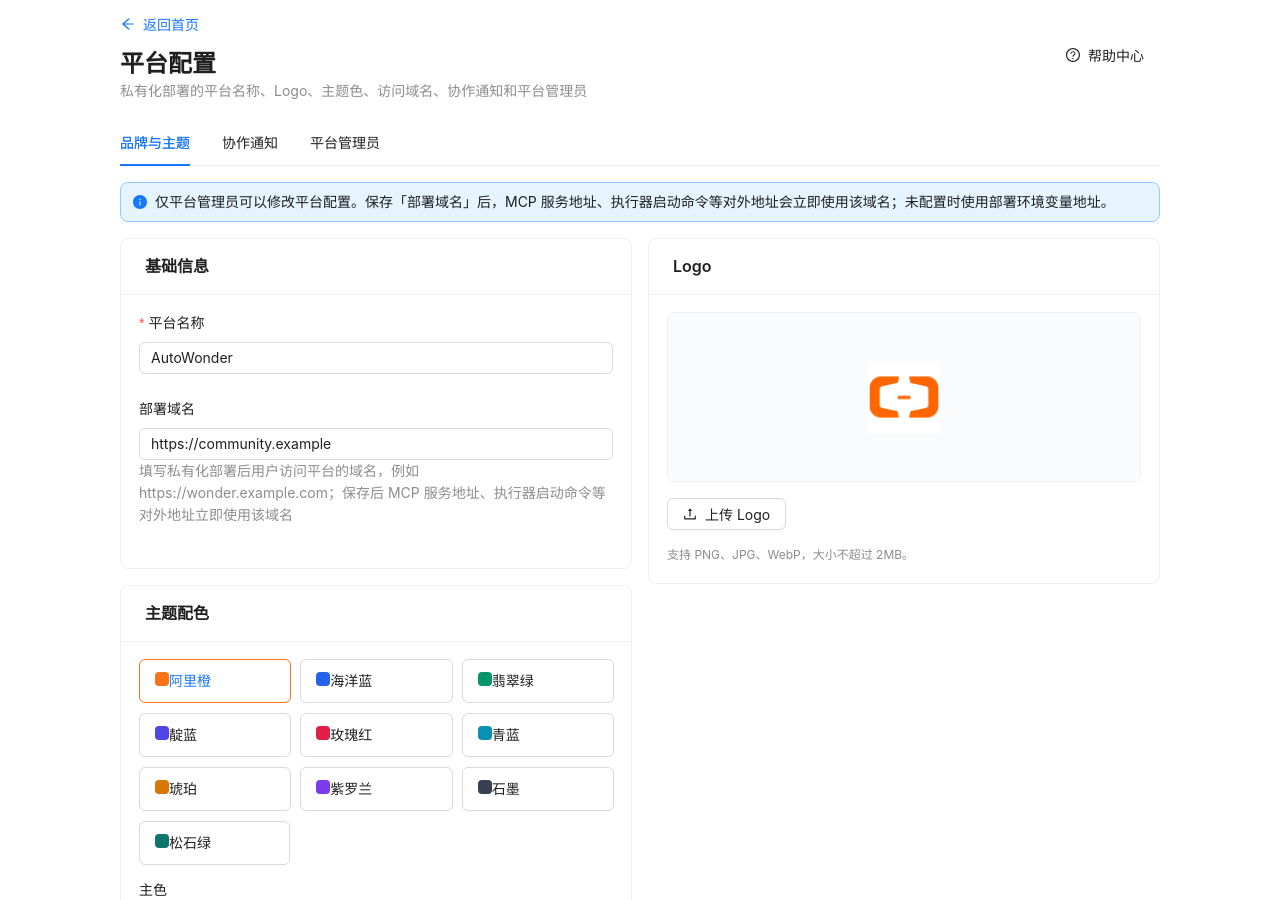
Test case: BrandingConfigPage › loads dingtalk collaboration robot status
Click the tab "协作通知": (250, 143) [222,132,278,154]
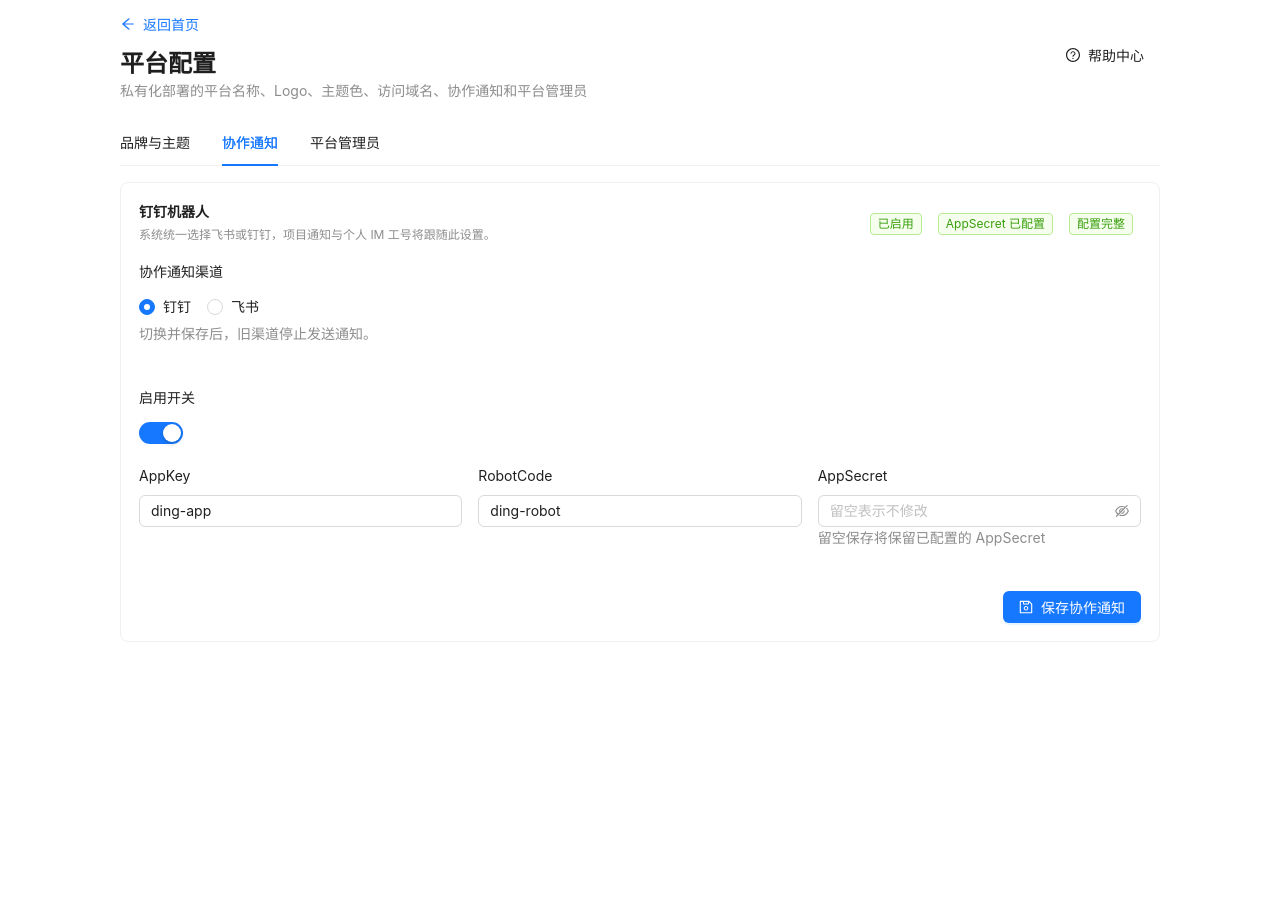
expect the text "钉钉机器人" is shown: met, box [139,203,209,220]
expect the text "AppSecret 已配置" is shown: met, box [938,212,1053,234]
expect the text "配置完整" is shown: met, box [1069,212,1133,234]
